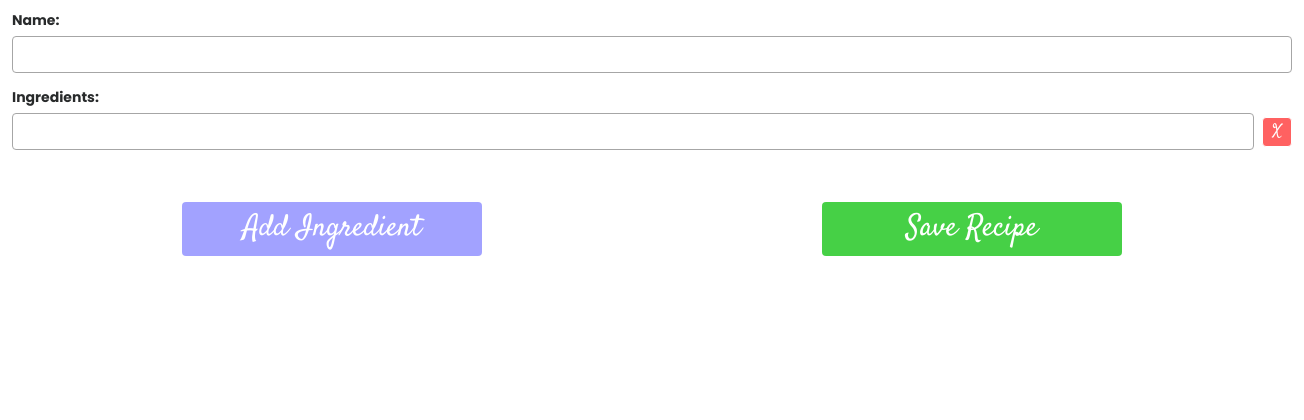
Test case: <RecipeForm /> › ingretients fields can be added and removed
The width and height of the screenshot is (1304, 420).
expect the number of elements with test id "ingredients" is 1: met, box [12, 113, 1292, 162]
Step 1. Click the button with test id "add-ingredient-button" → (332,229), box [182, 202, 482, 256]
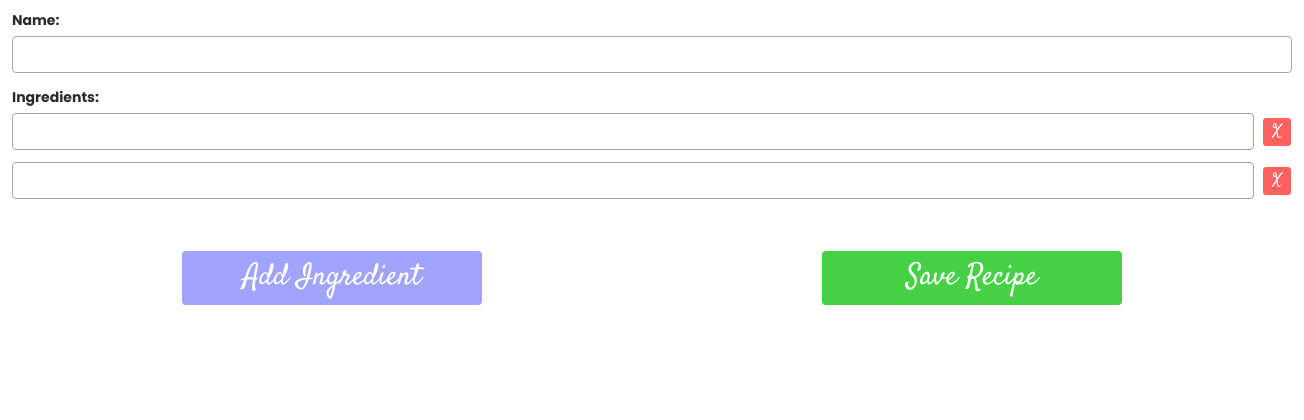
Step 2. Click the button with test id "add-ingredient-button" → (332,278), box [182, 251, 482, 305]
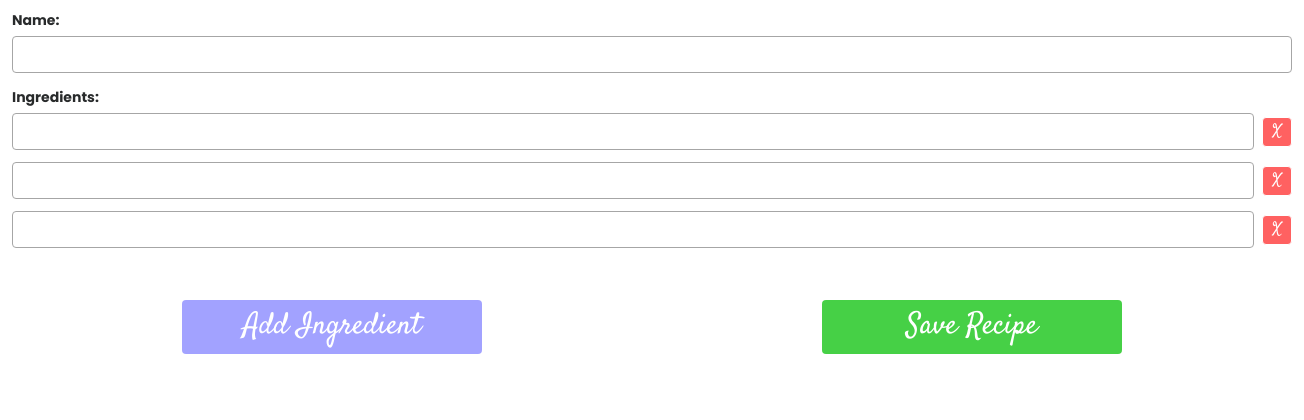
Step 3. Click the button with test id "add-ingredient-button" → (332,327), box [182, 300, 482, 354]
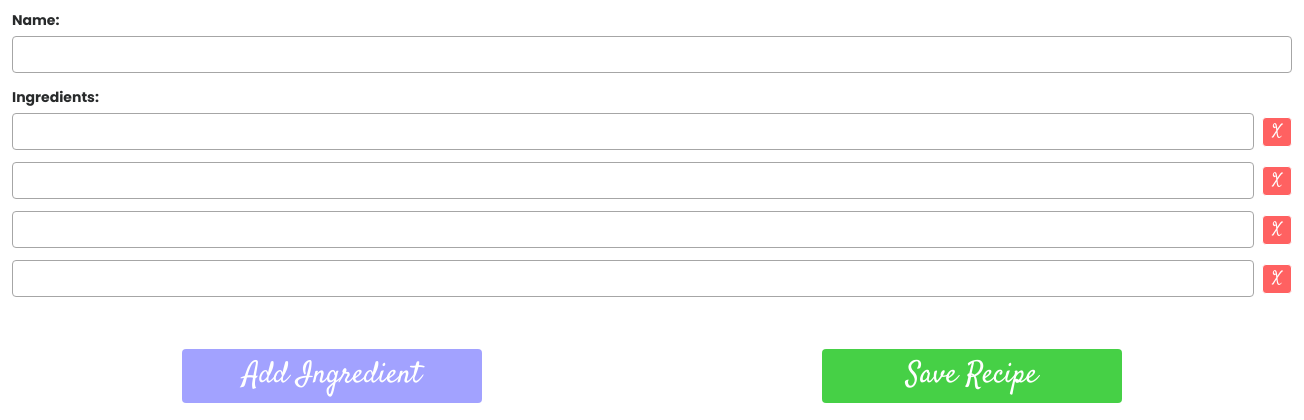
expect the number of elements with test id "ingredients" is 4: met, box [12, 113, 1292, 162]; [12, 162, 1292, 211]; [12, 211, 1292, 260]; [12, 260, 1292, 309]
Step 4. Click the button with test id "ingredients-3-remove-button" → (1277,278), box [1262, 264, 1292, 294]
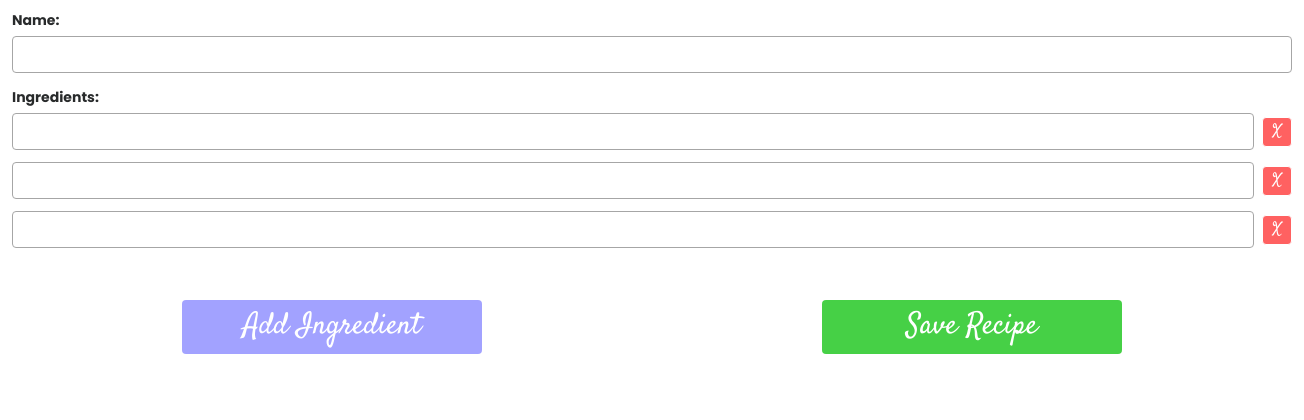
Step 5. Click the button with test id "ingredients-2-remove-button" → (1277,230), box [1262, 214, 1292, 244]
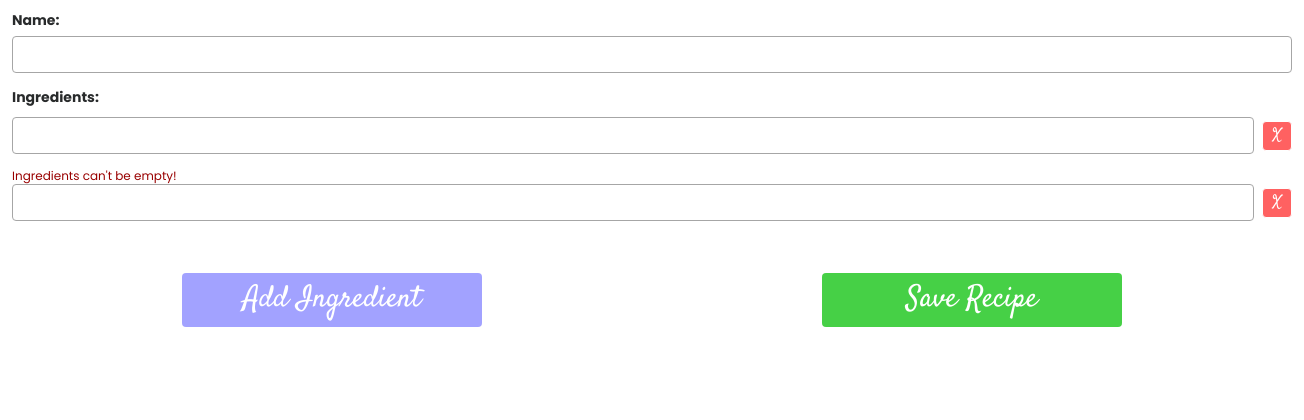
expect the number of elements with test id "ingredients" is 2: met, box [12, 117, 1292, 166]; [12, 166, 1292, 233]
